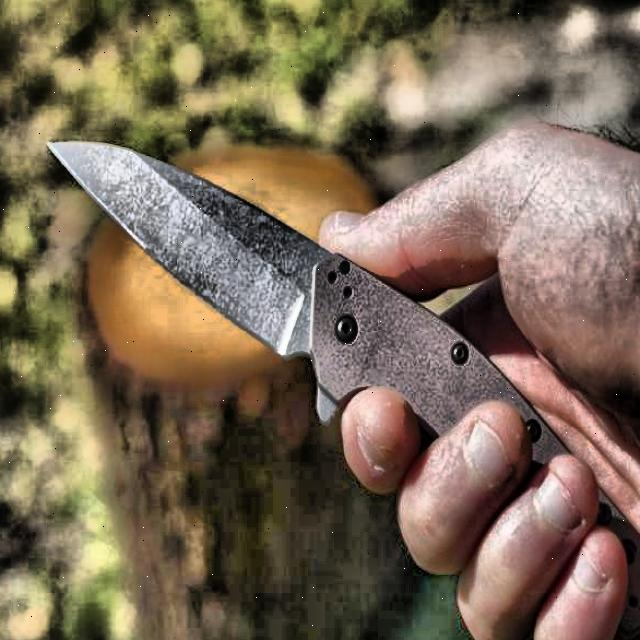knife: (48, 140, 640, 640)
